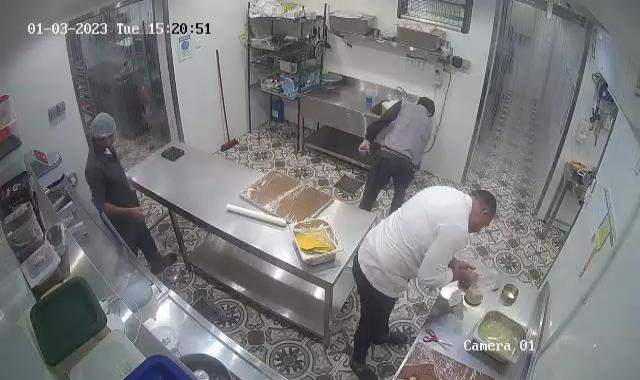hairnet: (86, 113, 117, 144)
no_hairnet: (472, 186, 496, 234), (416, 94, 434, 118)
